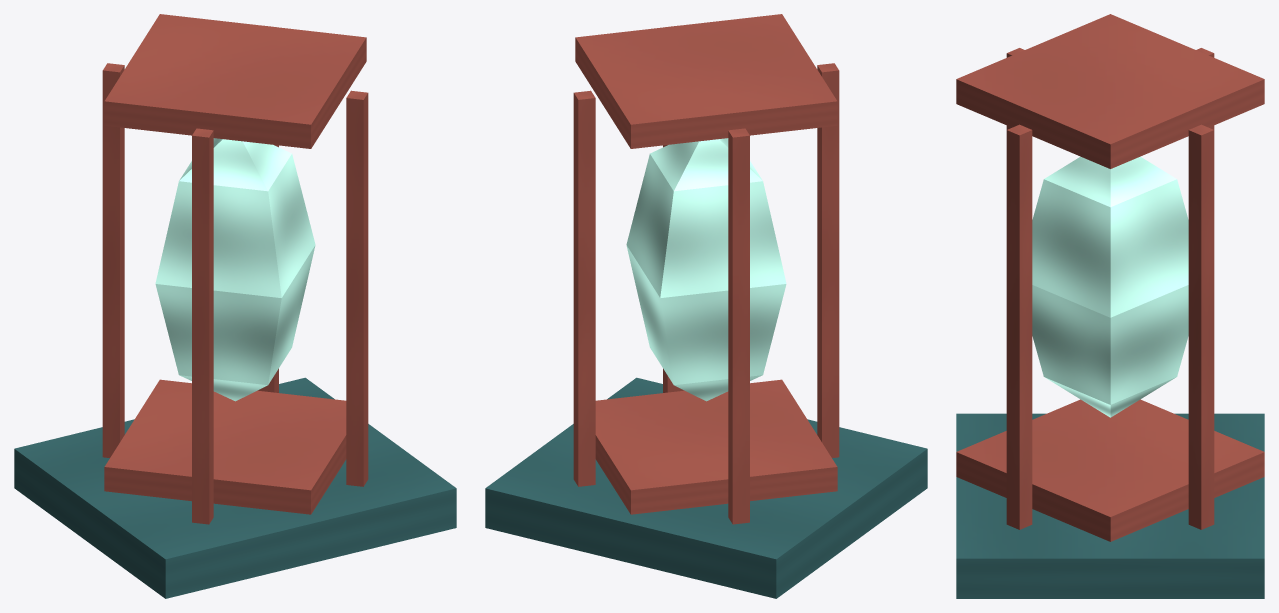
File: atlas100-s033-a01.lod2.glb
The picture shows the model from 3 angles, left to right: view 1: azimuth 30°, elevation 25°; view 2: azimuth 150°, elevation 25°; view 3: azimuth 270°, elevation 25°; orthographic projection.
Parts seen in each view (by area): view 1: atlas100-s033-a01:part-000, atlas100-s033-a01:part-013, atlas100-s033-a01:part-004, atlas100-s033-a01:part-003, atlas100-s033-a01:part-005, atlas100-s033-a01:part-007, atlas100-s033-a01:part-009; view 2: atlas100-s033-a01:part-000, atlas100-s033-a01:part-013, atlas100-s033-a01:part-004, atlas100-s033-a01:part-003, atlas100-s033-a01:part-011, atlas100-s033-a01:part-009, atlas100-s033-a01:part-007; view 3: atlas100-s033-a01:part-013, atlas100-s033-a01:part-000, atlas100-s033-a01:part-004, atlas100-s033-a01:part-003, atlas100-s033-a01:part-005, atlas100-s033-a01:part-011.
Boxes of the visible parts, x1,y1,x2,y2 form: atlas100-s033-a01:part-000: [14, 377, 456, 598]; atlas100-s033-a01:part-013: [155, 138, 315, 401]; atlas100-s033-a01:part-004: [104, 14, 366, 148]; atlas100-s033-a01:part-003: [104, 379, 346, 514]; atlas100-s033-a01:part-005: [346, 90, 368, 486]; atlas100-s033-a01:part-007: [192, 128, 213, 524]; atlas100-s033-a01:part-009: [102, 63, 124, 457]; atlas100-s033-a01:part-000: [485, 377, 927, 598]; atlas100-s033-a01:part-013: [626, 138, 786, 401]; atlas100-s033-a01:part-004: [575, 14, 837, 148]; atlas100-s033-a01:part-003: [595, 379, 837, 514]; atlas100-s033-a01:part-011: [573, 90, 595, 486]; atlas100-s033-a01:part-009: [728, 128, 749, 524]; atlas100-s033-a01:part-007: [817, 63, 839, 457]; atlas100-s033-a01:part-013: [1032, 156, 1188, 417]; atlas100-s033-a01:part-000: [956, 413, 1264, 598]; atlas100-s033-a01:part-004: [956, 14, 1264, 168]; atlas100-s033-a01:part-003: [956, 399, 1264, 541]; atlas100-s033-a01:part-005: [1006, 124, 1032, 529]; atlas100-s033-a01:part-011: [1188, 124, 1214, 529].
Bounding box in the file's own units: 2 × 2.88 × 1.8.
Materials: 3 (3 with a texture image).
